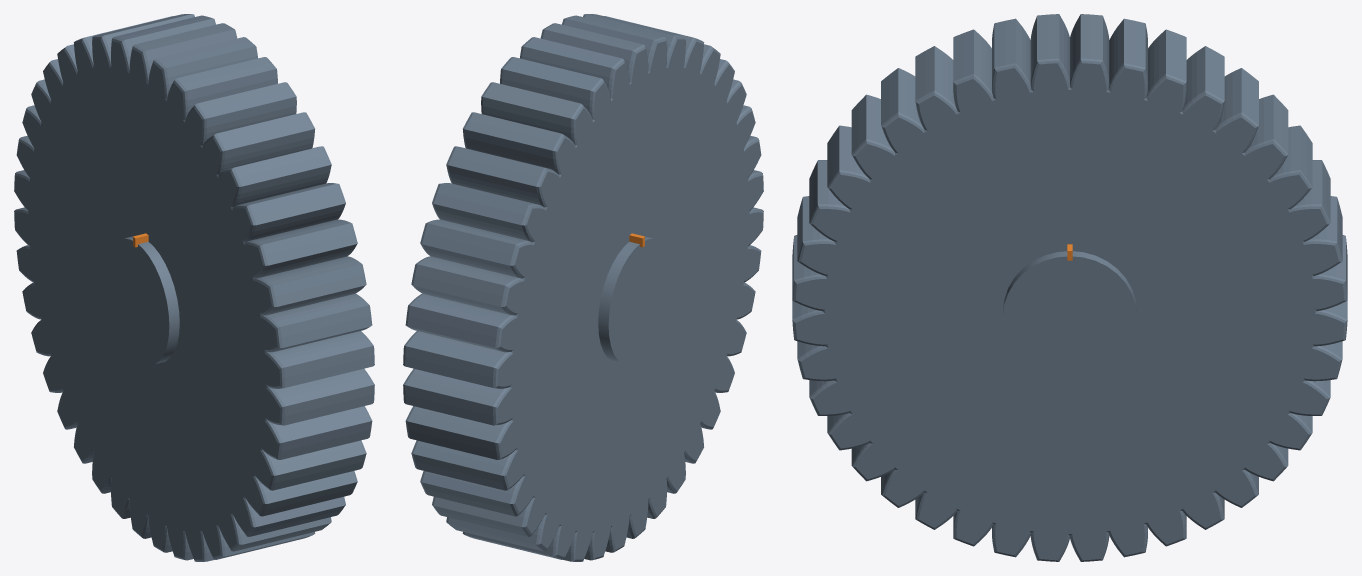
File: gear_z2.glb
The picture shows the model from 3 angles, left to right: view 1: azimuth 30°, elevation 25°; view 2: azimuth 150°, elevation 25°; view 3: azimuth 270°, elevation 25°; orthographic projection. The views are drawn at different scales.
Bounding box in the file's own units: 22 × 84.95 × 84.95.
